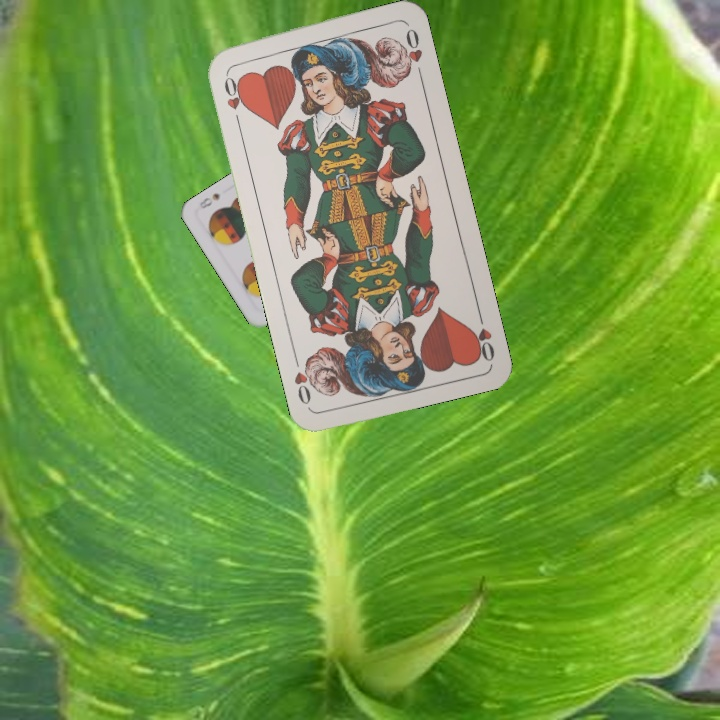HO: (220, 68, 250, 127), (467, 305, 497, 364)
